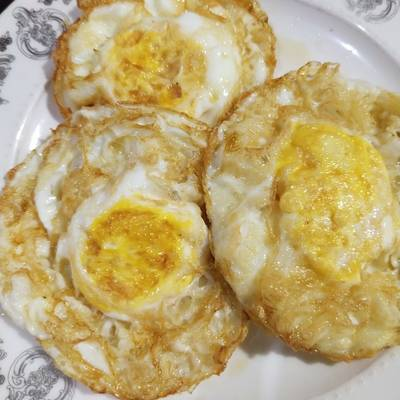Telur: (211, 92, 395, 372), (49, 109, 230, 368), (52, 5, 283, 134)
